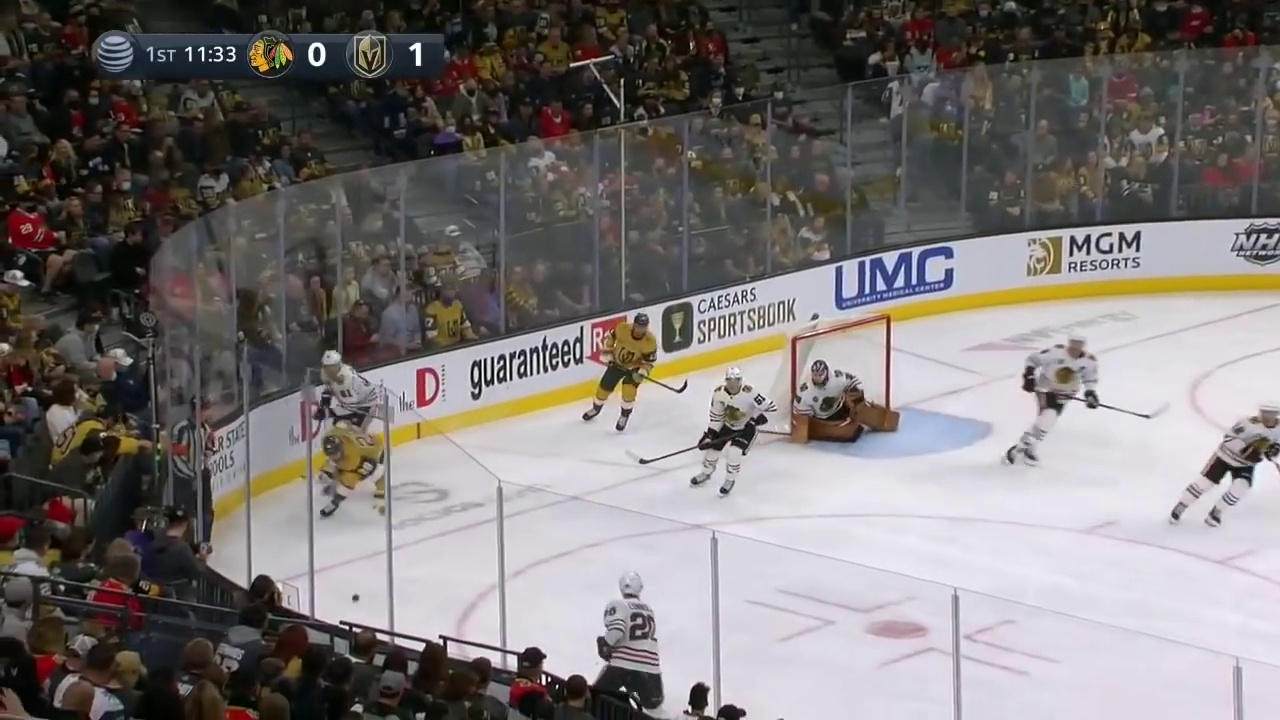goalie: (791, 359, 900, 444)
hockeyplayer: (1169, 399, 1280, 527), (1004, 332, 1099, 466), (690, 366, 777, 498), (592, 572, 665, 704), (312, 350, 377, 496), (581, 312, 657, 434), (319, 427, 386, 520)
referee: (169, 393, 216, 553)
